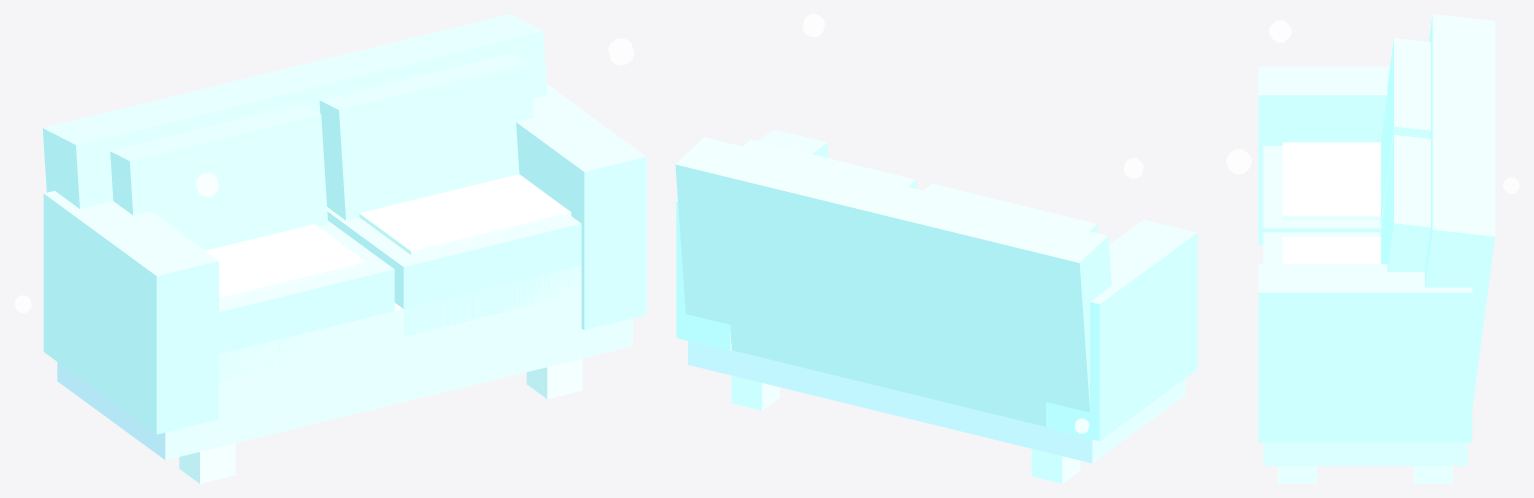
Rendered from sofa-oceanic-glass.glb.
The picture shows the model from 3 angles, left to right: view 1: azimuth 30°, elevation 25°; view 2: azimuth 150°, elevation 25°; view 3: azimuth 270°, elevation 25°; orthographic projection. The views are drawn at different scales.
Visible parts, largest first — view 1: frame-base, arm-left, back-right, back, back-left, arm-right, seat-right, seat-left, stitch-right, stitch-left, leg-a, leg-b; view 2: back, arm-left, frame-base, arm-right, back-left, back-right, leg-c, leg-d; view 3: arm-right, back, arm-left, stitch-left, back-right, frame-base, back-left, seat-left, stitch-right, seat-right, leg-b, leg-d (+2 smaller).
Part boxes in pixels (x1,y1,x2,y2): frame-base: (57,266,632,460); arm-left: (43,191,218,434); back-right: (319,53,533,220); back: (42,14,547,208); back-left: (110,104,328,250); arm-right: (516,84,646,330); seat-right: (327,207,581,336); seat-left: (219,221,394,381); stitch-right: (359,174,571,254); stitch-left: (205,224,366,301); leg-a: (179,443,235,483); leg-b: (526,358,582,399); back: (675,137,1111,426); arm-left: (1046,219,1197,441); frame-base: (688,341,1185,463); arm-right: (676,129,827,350); back-left: (924,183,1097,232); back-right: (743,139,916,188); leg-c: (1031,449,1080,483); leg-d: (731,375,779,410); arm-right: (1258,264,1472,442); back: (1425,14,1495,407); arm-left: (1258,66,1389,245); stitch-left: (1282,142,1380,219); back-right: (1380,135,1430,271); frame-base: (1263,442,1467,465); back-left: (1380,38,1430,226); seat-left: (1263,146,1381,232); stitch-right: (1282,237,1380,263); seat-right: (1263,232,1380,263); leg-b: (1278,466,1316,483); leg-d: (1414,466,1452,483).
Bounding box in the file's own units: 2.24 × 1.55 × 1.21.
